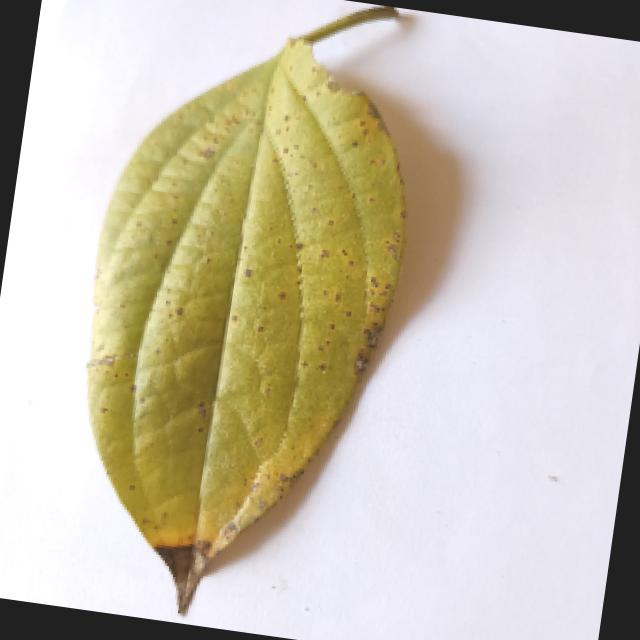slow-decline: (23, 0, 474, 635)
